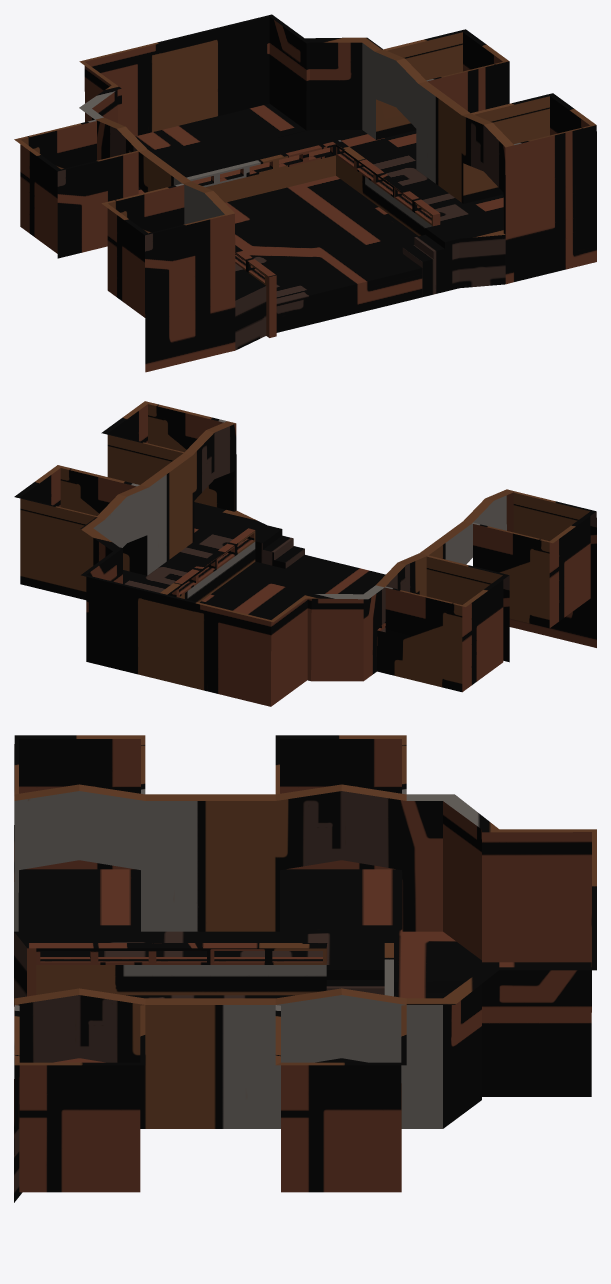
File: Enviorment_Unwapped_UVs.fbx
3 views of the same model, one above another, from view 1: azimuth 30°, elevation 25°; view 2: azimuth 150°, elevation 25°; view 3: azimuth 270°, elevation 25° (orthographic). The views are drawn at different scales.
Parts seen in each view (by area): view 1: Enivorment; view 2: Enivorment; view 3: Enivorment.
Part boxes in pixels (left/top/right/bottom): Enivorment: left=14, top=14, right=596, bottom=372; Enivorment: left=14, top=401, right=596, bottom=706; Enivorment: left=14, top=735, right=596, bottom=1202.
Bounding box in the file's own units: 112 × 34.04 × 83.54.
